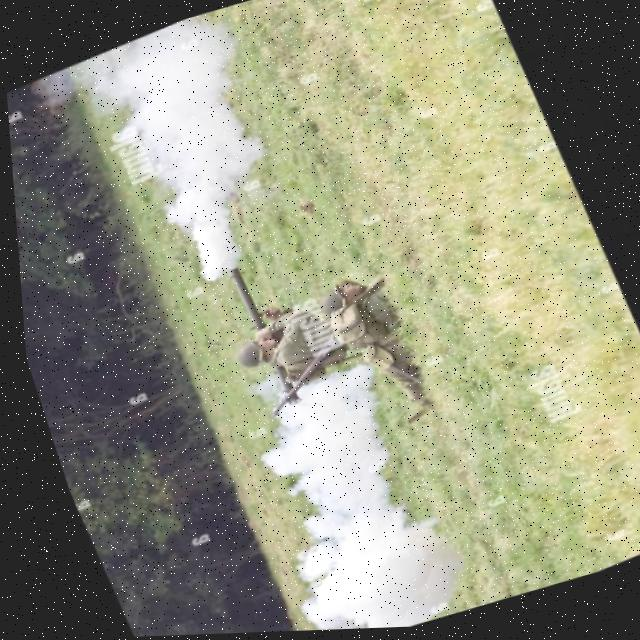rocket: (209, 258, 302, 416)
